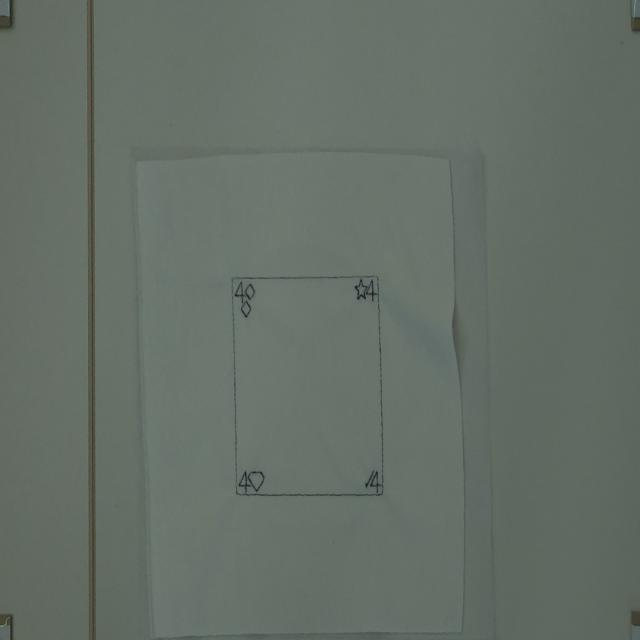4 -: (367, 469, 382, 492), (238, 470, 252, 494), (234, 278, 246, 303), (365, 280, 378, 302)
